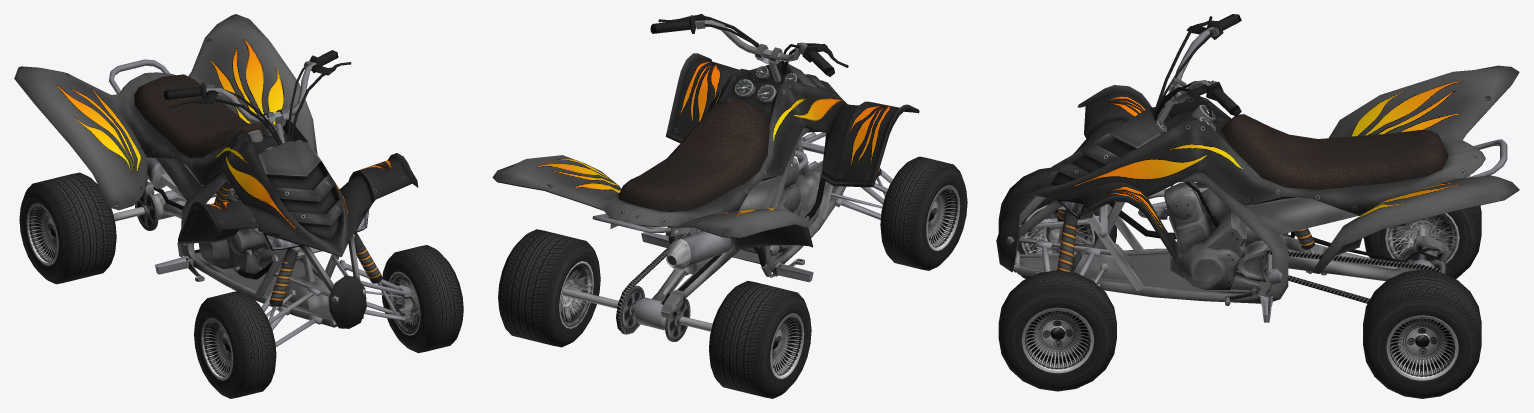
File: bike_3.fbx
3 renders of one model, left to right at view 1: azimuth 30°, elevation 25°; view 2: azimuth 150°, elevation 25°; view 3: azimuth 270°, elevation 25°, orthographic. The views are drawn at different scales.
Visible parts, largest first — view 1: polySurface104, Quard bike_3RBTyre, Quard bike_3RFTyre, Quard bike_3LFTyre; view 2: polySurface104, Quard bike_3RBTyre, Quard bike_3RLByre, Quard bike_3RFTyre; view 3: polySurface104, Quard bike_3RLByre, Quard bike_3LFTyre, Quard bike_3RBTyre, Quard bike_3RFTyre.
Boxes of the visible parts, left/top/right/bottom form: polySurface104: left=14, top=14, right=418, bottom=346; Quard bike_3RBTyre: left=19, top=172, right=116, bottom=284; Quard bike_3RFTyre: left=194, top=290, right=276, bottom=398; Quard bike_3LFTyre: left=381, top=245, right=463, bottom=353; polySurface104: left=492, top=14, right=919, bottom=341; Quard bike_3RBTyre: left=709, top=281, right=811, bottom=398; Quard bike_3RLByre: left=498, top=229, right=600, bottom=347; Quard bike_3RFTyre: left=880, top=156, right=967, bottom=270; polySurface104: left=996, top=14, right=1519, bottom=322; Quard bike_3RLByre: left=1363, top=269, right=1481, bottom=398; Quard bike_3LFTyre: left=998, top=270, right=1116, bottom=391; Quard bike_3RBTyre: left=1363, top=205, right=1481, bottom=278; Quard bike_3RFTyre: left=998, top=167, right=1116, bottom=278.
Bounding box in the file's own units: 155 × 144 × 243.
